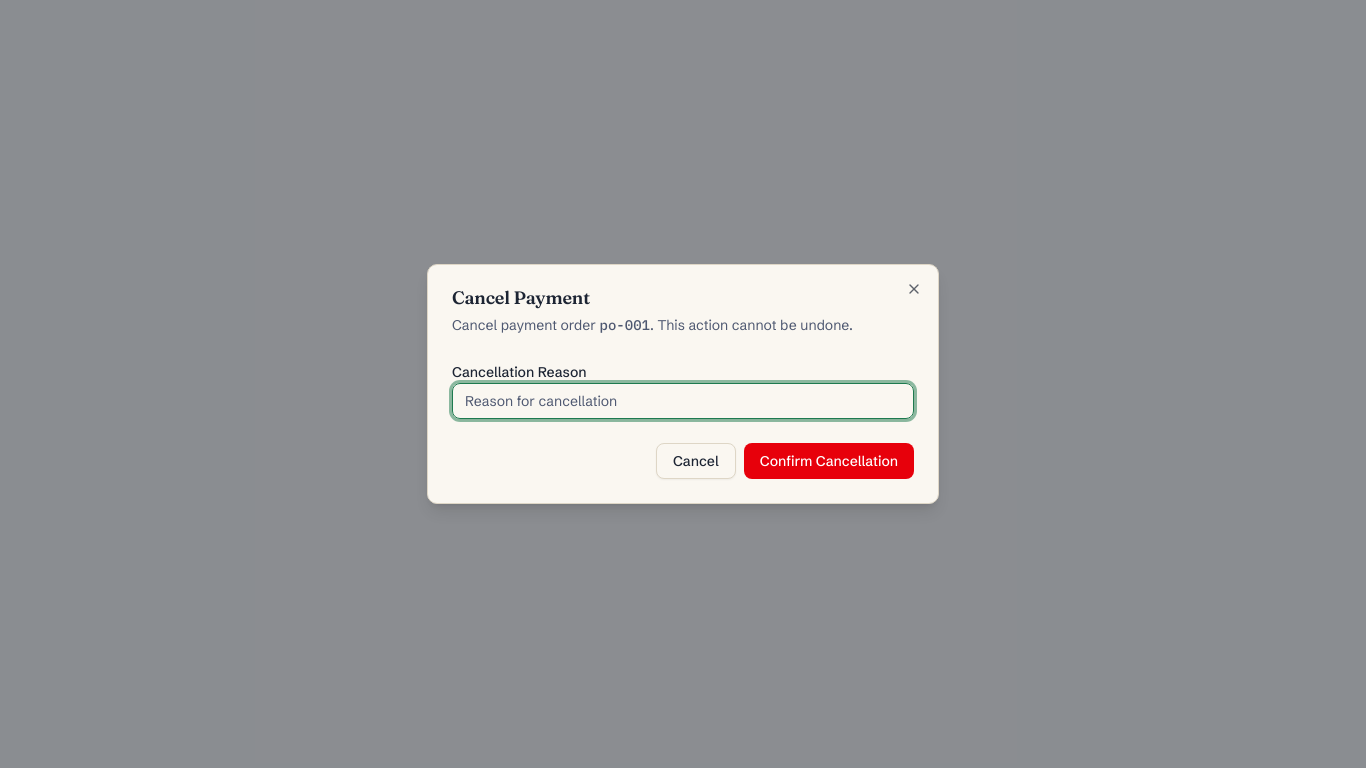
Test: CancelPaymentDialog - successful cancellation › requires a cancellation reason
Click the button "Confirm Cancellation": (829, 461) [744,443,914,479]
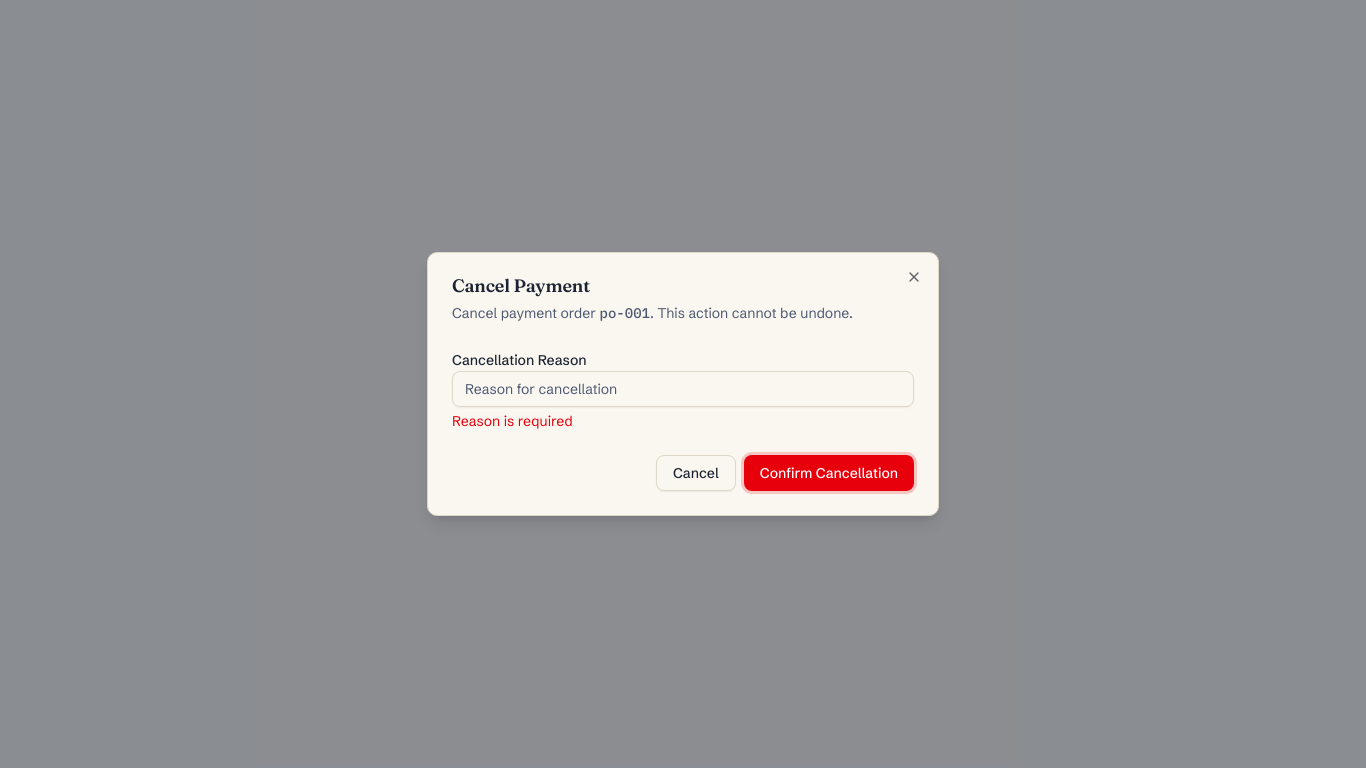
Now the text "Reason is required" is shown, box [452,412,573,430]
